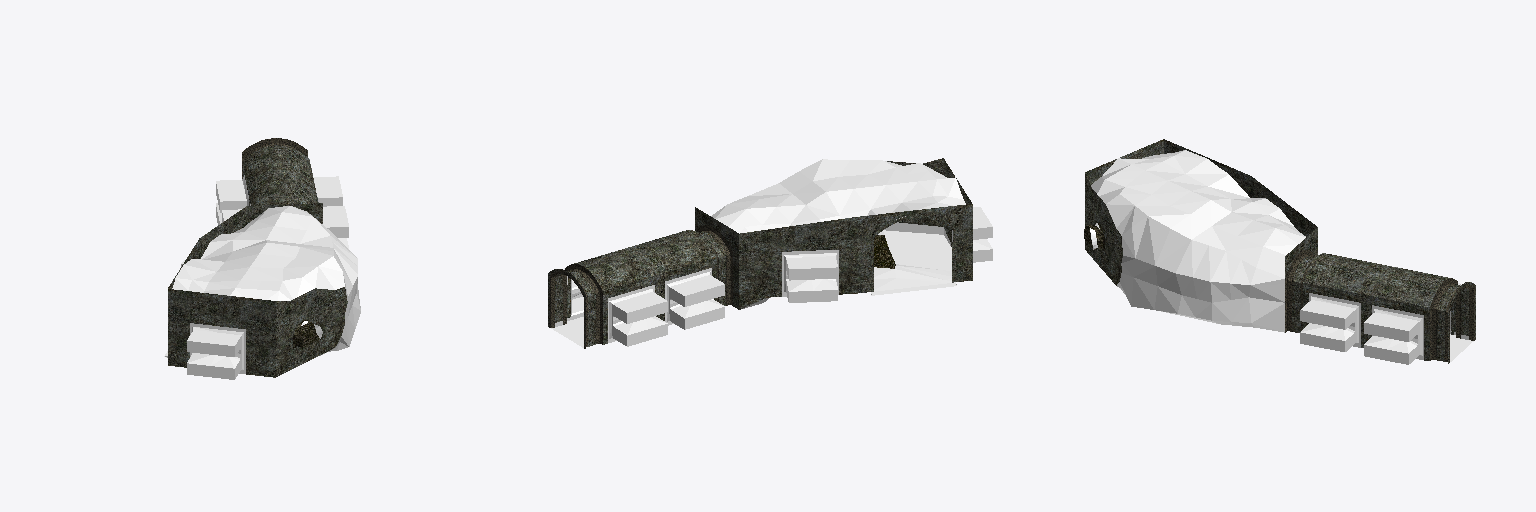
3 views of the same model, side by side, from view 1: azimuth 30°, elevation 25°; view 2: azimuth 150°, elevation 25°; view 3: azimuth 270°, elevation 25° (orthographic).
Parts seen in each view (by area): view 1: mesh3, mesh0, mesh2; view 2: mesh3, mesh0, mesh2, mesh7, mesh4, mesh11; view 3: mesh3, mesh0, mesh2.
Boxes of the visible parts, <box> form: mesh3: <box>164,175,360,379</box>; mesh0: <box>168,145,347,377</box>; mesh2: <box>242,138,307,178</box>; mesh3: <box>553,159,992,347</box>; mesh0: <box>555,158,972,346</box>; mesh2: <box>550,225,732,348</box>; mesh7: <box>548,215,955,348</box>; mesh4: <box>551,222,952,328</box>; mesh11: <box>874,235,895,268</box>; mesh3: <box>1090,150,1473,364</box>; mesh0: <box>1085,139,1468,361</box>; mesh2: <box>1285,250,1474,362</box>.
Size of the model in its own units: 13.67 by 4.04 by 15.76.
Materials: 12 (4 with a texture image).